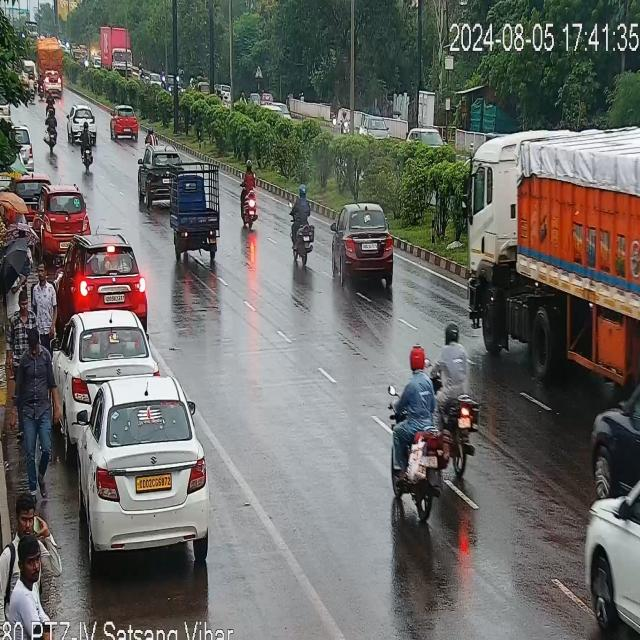2-wheelers: (394, 344, 434, 508), (436, 321, 476, 485), (284, 182, 320, 268), (238, 164, 262, 228), (77, 120, 98, 166), (44, 107, 61, 157), (340, 110, 350, 132), (29, 70, 35, 100), (39, 72, 44, 100), (47, 88, 54, 106)
auto: (170, 174, 226, 260)
bus: (467, 128, 640, 400)
car: (74, 377, 210, 561), (57, 310, 151, 418), (589, 464, 640, 640), (590, 368, 640, 500), (68, 236, 150, 316), (334, 202, 396, 282), (33, 186, 89, 250), (140, 140, 186, 198), (406, 124, 451, 154), (9, 126, 37, 174), (362, 110, 392, 148), (68, 103, 96, 137), (112, 108, 140, 141)
pedestrian: (2, 494, 58, 622), (23, 332, 58, 472), (12, 291, 32, 435), (35, 262, 57, 340)
truck: (100, 20, 134, 80), (37, 36, 60, 77)
